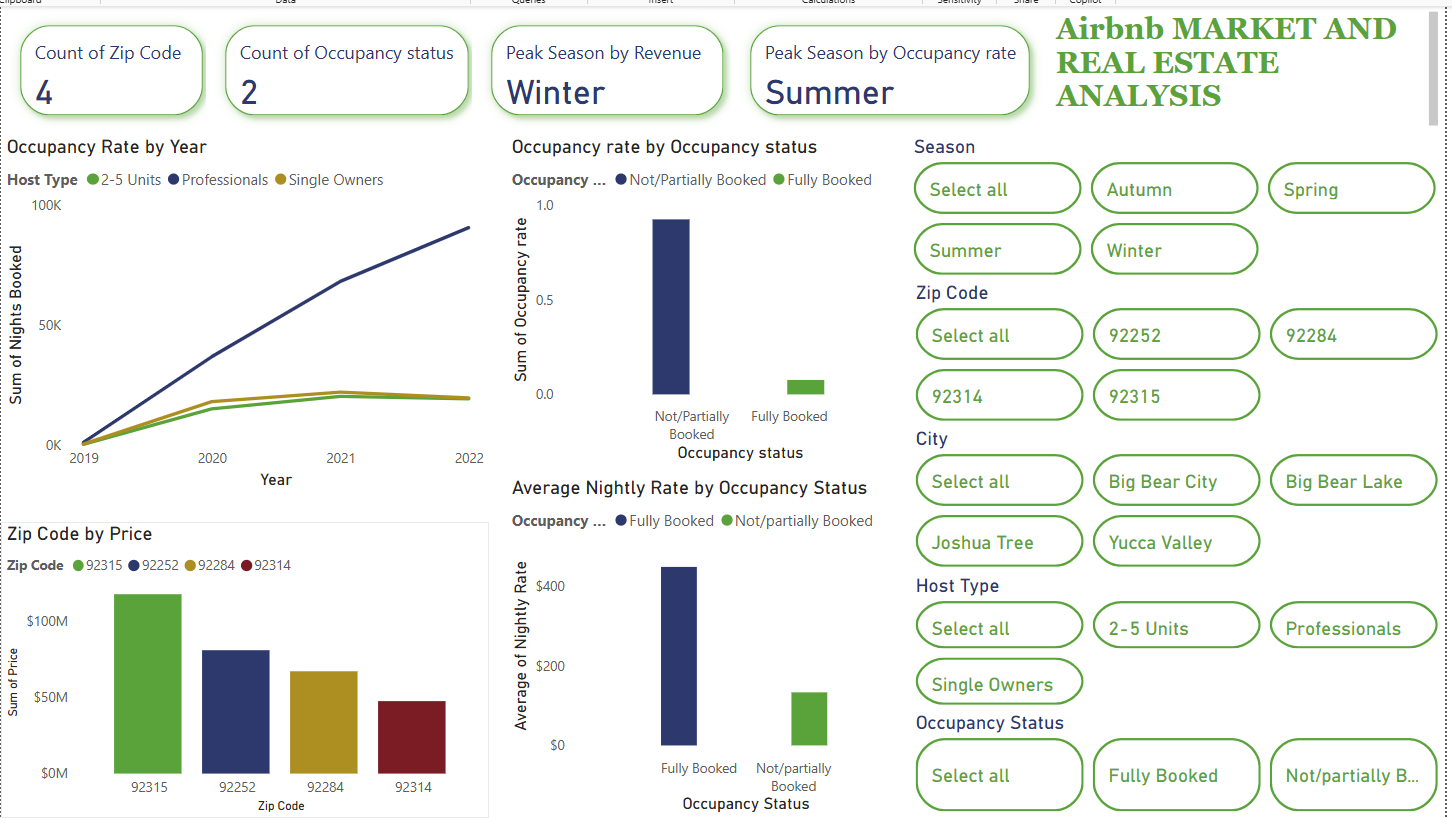

Layout of this report page (visuals, bound fields, positions):
{"tool":"powerbi","page":{"name":"Dashboard 4","canvas":[1280,720],"ordinal":3},"visuals":[{"type":"lineChart","title":"Occupancy Rate by Year","fields":{"Category":["market_analysis_clean.Date.Variation.Date Hierarchy.Year"],"Series":["market_analysis_clean.Host Type"],"Y":["Sum(market_analysis_clean.Nights Booked)"]},"box":[0,114.4,432.7,318.3],"z":0},{"type":"columnChart","title":"Zip Code by Price","fields":{"Category":["sales_properties.Zip Code"],"Y":["Sum(sales_properties.Price)"],"Series":["sales_properties.Zip Code"]},"box":[0,457.5,432.7,262.5],"z":1000},{"type":"clusteredColumnChart","title":"Average Nightly Rate by Occupancy Status","fields":{"Category":["market_analysis_clean.Occupancy Status"],"Y":["Avg(market_analysis_clean.Nightly Rate)"],"Series":["market_analysis_clean.Occupancy Status"]},"box":[447.8,416.7,368.9,303.3],"z":2000},{"type":"textbox","box":[930.1,0,349.4,114.4],"z":3000},{"type":"cardVisual","fields":{"Data":["Count(sales_properties.Zip Code)"]},"box":[0,0,196.8,114.4],"z":4000},{"type":"cardVisual","fields":{"Data":["Count(Calculations.Occupancy status)"]},"box":[181.8,0,250.9,114.4],"z":5000},{"type":"cardVisual","fields":{"Data":["market_analysis_clean.Peak Season"]},"box":[417.6,0,240.3,114.4],"z":6000},{"type":"clusteredColumnChart","title":"Occupancy rate by Occupancy status","fields":{"Category":["Calculations.Occupancy status"],"Y":["Sum(Calculations.Occupancy rate)"],"Series":["Calculations.Occupancy status"]},"box":[447.8,114.4,368.9,294.4],"z":7000},{"type":"cardVisual","fields":{"Data":["Amenities calculations (2).Peak Season Name"]},"box":[647.3,0,282.9,114.4],"z":8000},{"type":"advancedSlicerVisual","fields":{"Values":["market_analysis_clean.Season"]},"box":[804.2,114.4,474.4,129.5],"z":9000},{"type":"advancedSlicerVisual","fields":{"Values":["market_analysis_clean.Zip Code"]},"box":[806,243.8,474.4,129.5],"z":10000},{"type":"advancedSlicerVisual","fields":{"Values":["market_analysis_clean.City"]},"box":[806,373.3,474.4,129.5],"z":11000},{"type":"advancedSlicerVisual","fields":{"Values":["market_analysis_clean.Host Type"]},"box":[806,503.6,474.4,121.5],"z":12000},{"type":"advancedSlicerVisual","fields":{"Values":["market_analysis_clean.Occupancy Status"]},"box":[806,625.1,474.4,94.9],"z":13000}]}

Visuals, with their boxes on the page's 1280x720 design canvas (x1, y1, x2, y2). These are canvas units, not pixel positions in the 1452x818 screenshot, which may show the page scaled, cropped or inside an application window:
"Occupancy Rate by Year" lineChart: <bbox>0, 114, 433, 433</bbox>
"Zip Code by Price" columnChart: <bbox>0, 458, 433, 720</bbox>
"Average Nightly Rate by Occupancy Status" clusteredColumnChart: <bbox>448, 417, 817, 720</bbox>
textbox: <bbox>930, 0, 1280, 114</bbox>
cardVisual - Count(sales_properties.Zip Code): <bbox>0, 0, 197, 114</bbox>
cardVisual - Count(Calculations.Occupancy status): <bbox>182, 0, 433, 114</bbox>
cardVisual - market_analysis_clean.Peak Season: <bbox>418, 0, 658, 114</bbox>
"Occupancy rate by Occupancy status" clusteredColumnChart: <bbox>448, 114, 817, 409</bbox>
cardVisual - Amenities calculations (2).Peak Season Name: <bbox>647, 0, 930, 114</bbox>
advancedSlicerVisual - market_analysis_clean.Season: <bbox>804, 114, 1279, 244</bbox>
advancedSlicerVisual - market_analysis_clean.Zip Code: <bbox>806, 244, 1280, 373</bbox>
advancedSlicerVisual - market_analysis_clean.City: <bbox>806, 373, 1280, 503</bbox>
advancedSlicerVisual - market_analysis_clean.Host Type: <bbox>806, 504, 1280, 625</bbox>
advancedSlicerVisual - market_analysis_clean.Occupancy Status: <bbox>806, 625, 1280, 720</bbox>
